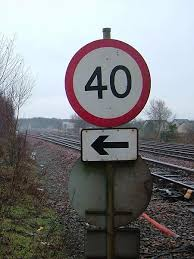Speed_limit_40km: (66, 38, 150, 124)
